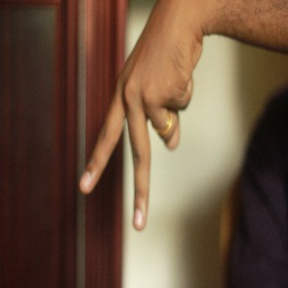Y: (77, 58, 190, 231)
